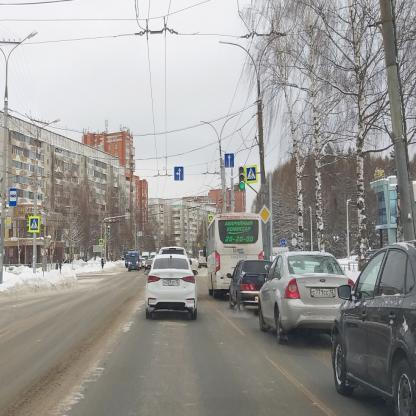road_sign: (3, 186, 22, 207), (220, 151, 238, 170), (173, 166, 188, 187), (258, 203, 272, 224), (244, 165, 258, 184), (29, 214, 41, 233)
